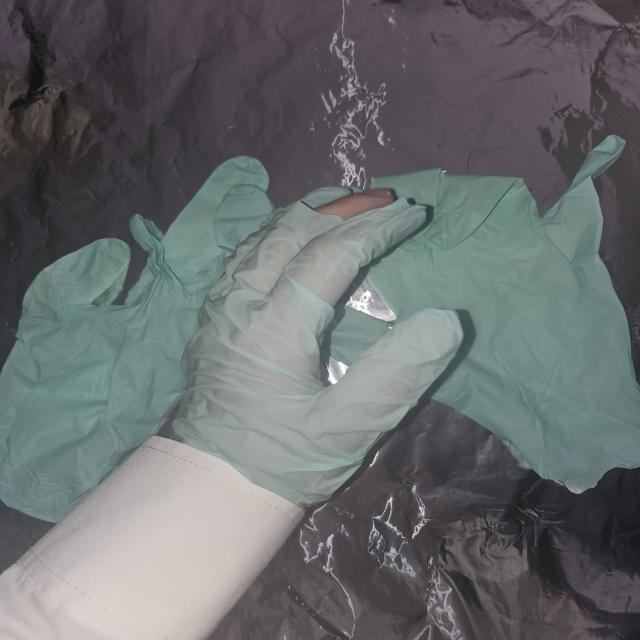gloves_damaged: (152, 182, 472, 515)
